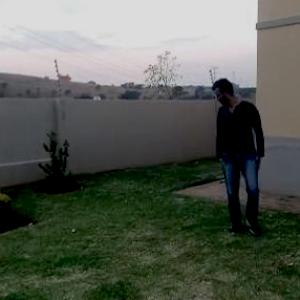follow: (215, 72, 272, 241)
